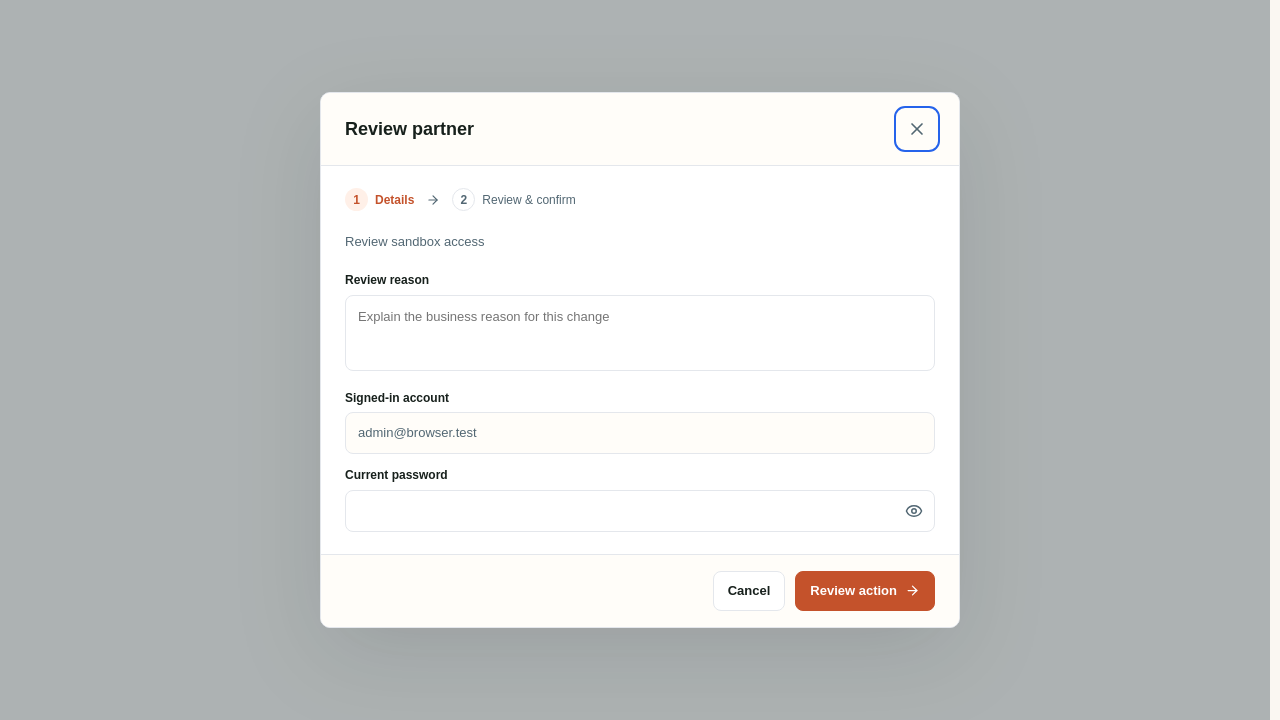
Test: recovers from rejected password verification without losing the reviewed draft or request identity
This screenshot has width=1280, height=720.
Later steps or results of the test are not shown.
Step 1. Type "Reviewed business approval" into the text box labelled "Review reason" → (640, 333), box [345,295,935,371]
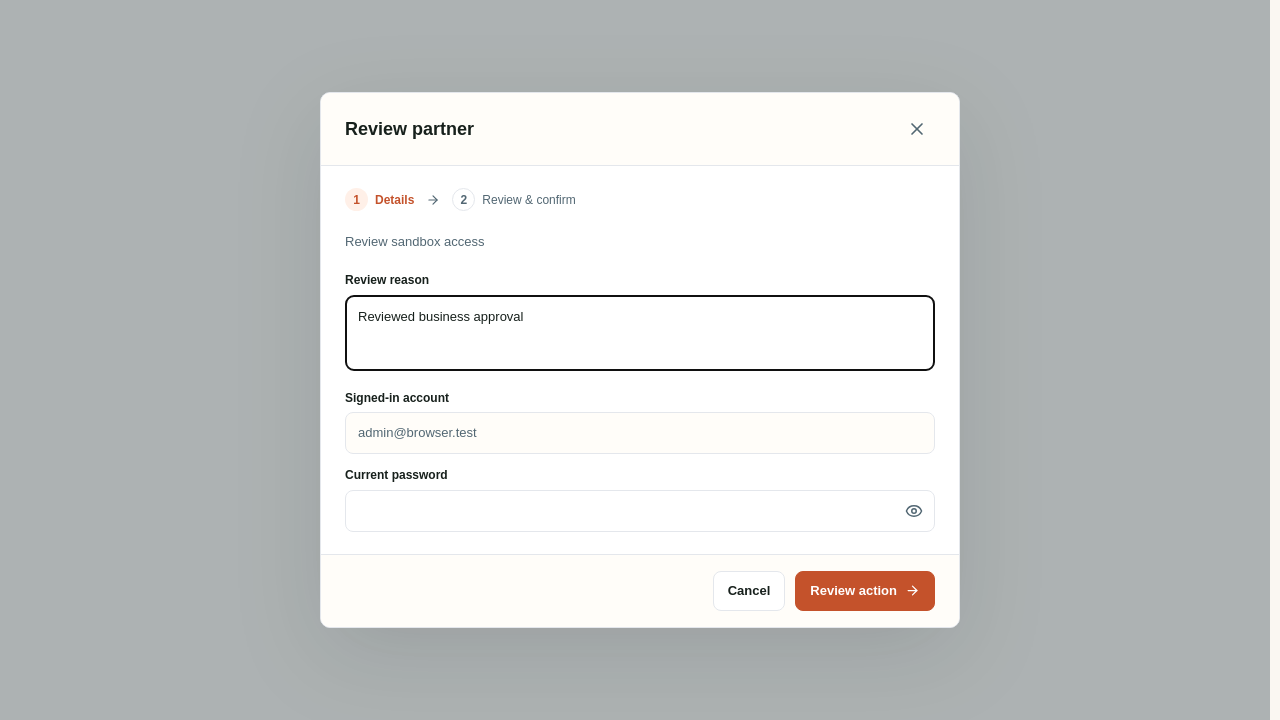
Step 2. Type "wrong-password" into the password field labelled "Current password" → (640, 511), box [345,490,935,532]
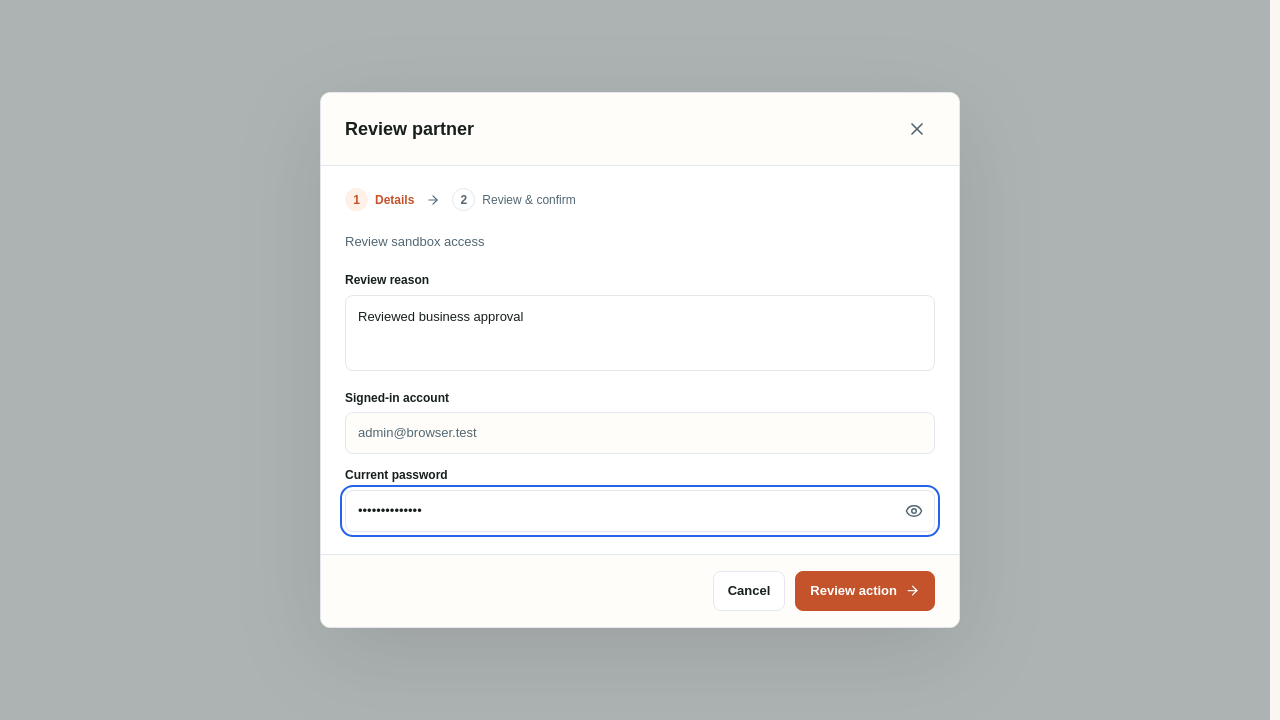
Step 3. Click the button "Review action" → (865, 591), box [795,571,935,611]
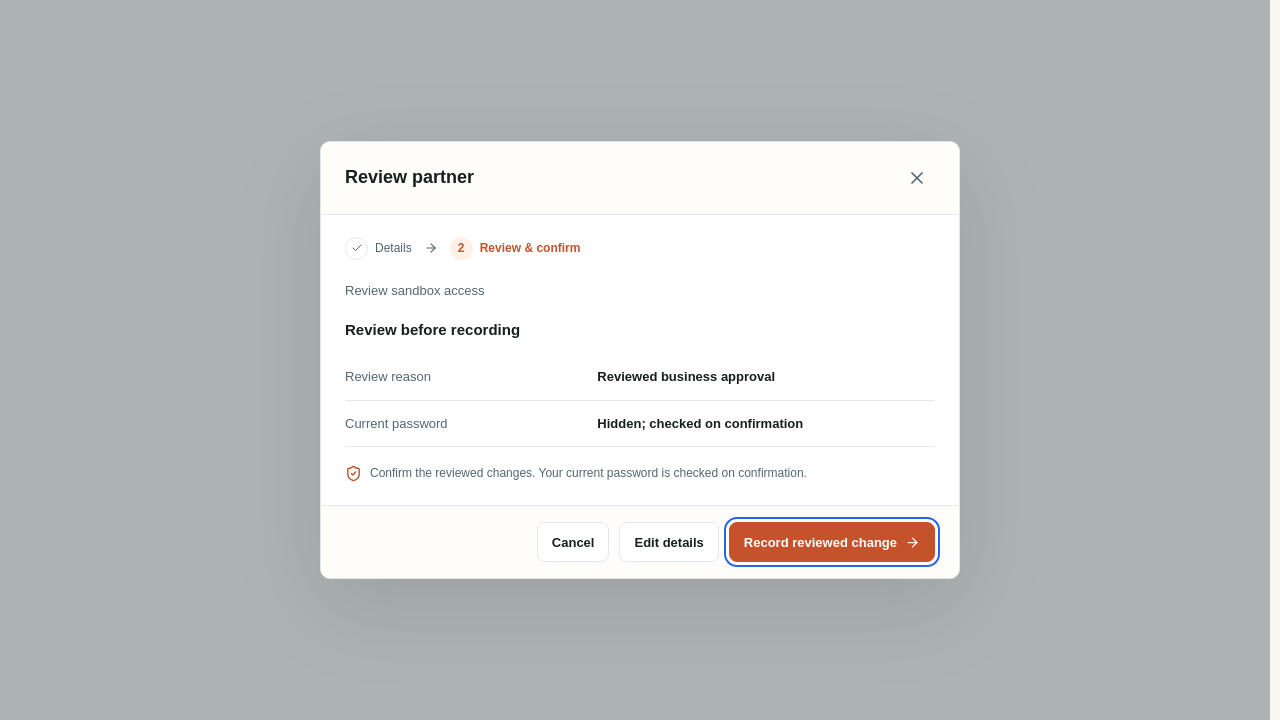
Step 4. Click the button "Record reviewed change" → (832, 542), box [729,522,935,562]
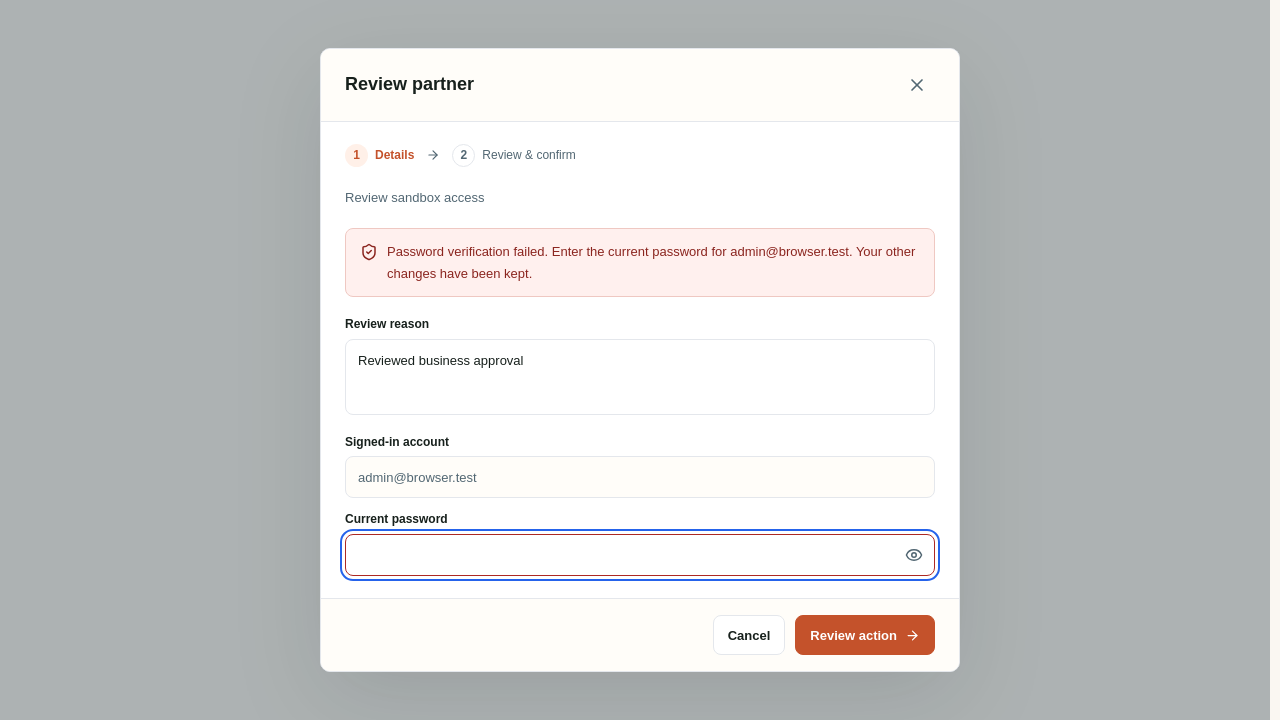
Now the message shows "admin@browser.test", box [387,244,915,281]
Now the password field labelled "Current password" is empty, box [345,534,935,576]
